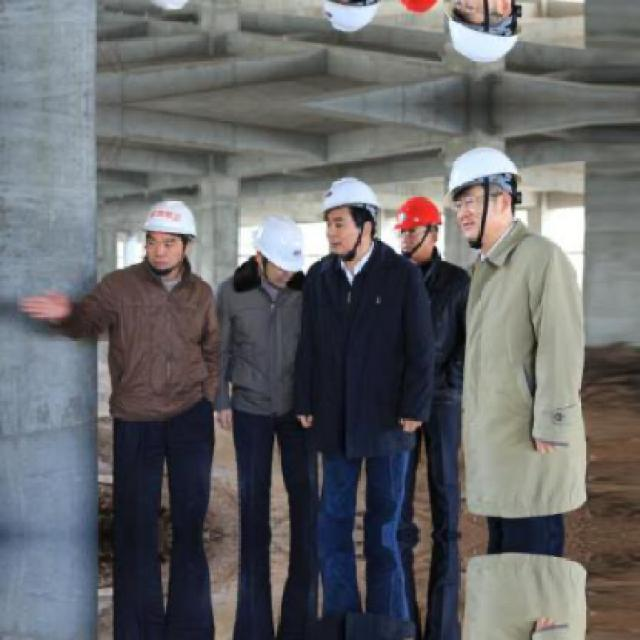helmet: (448, 142, 522, 248), (448, 0, 523, 66), (320, 171, 378, 254), (137, 197, 201, 272), (251, 210, 306, 288), (392, 191, 446, 258), (320, 0, 380, 37), (391, 0, 446, 17)
